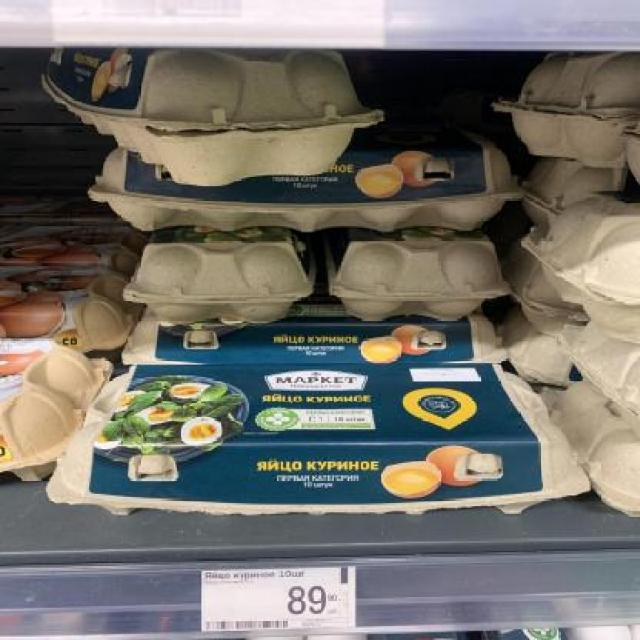Egg: (46, 366, 594, 520), (123, 313, 508, 367), (126, 234, 317, 324), (316, 232, 507, 322), (1, 338, 102, 479), (0, 262, 132, 349)
